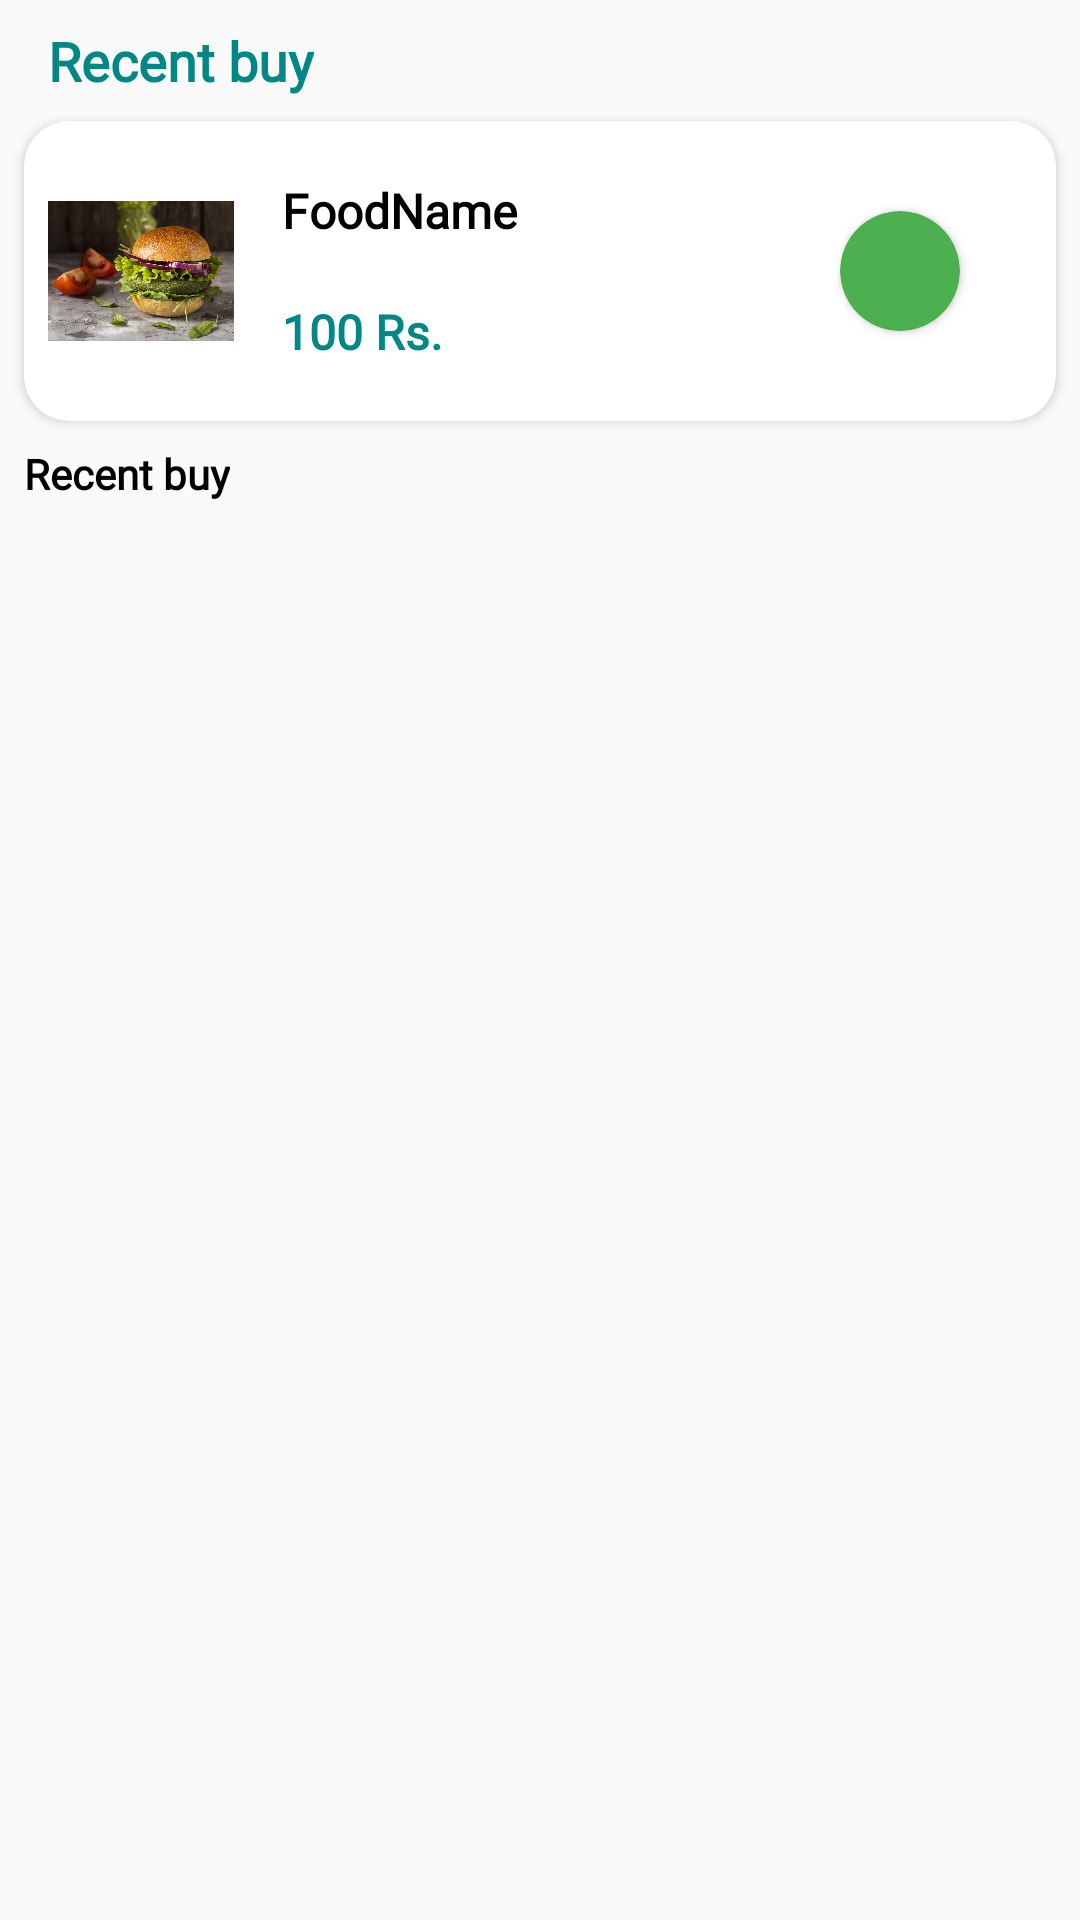

Where to tap for icons on this 1080*1920 app screen, as [x,y]:
burger: [141,271]
